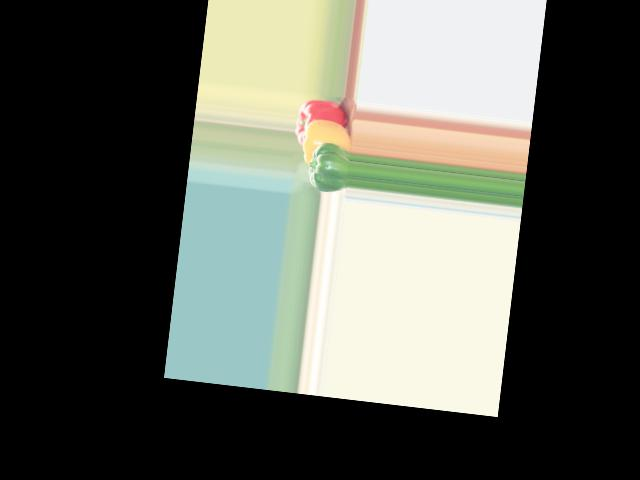bell_pepper: (294, 98, 354, 151)
